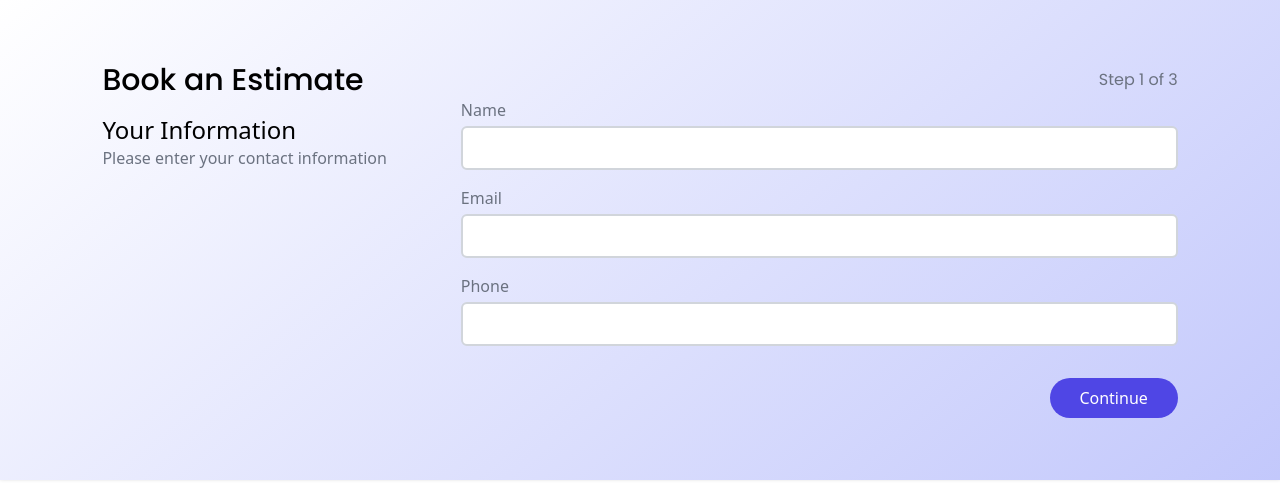
Page 2 › should render step 2 of 3
Step 1. Type "John Doe" into the field labelled "Name" → (819, 148), box [461, 126, 1178, 170]
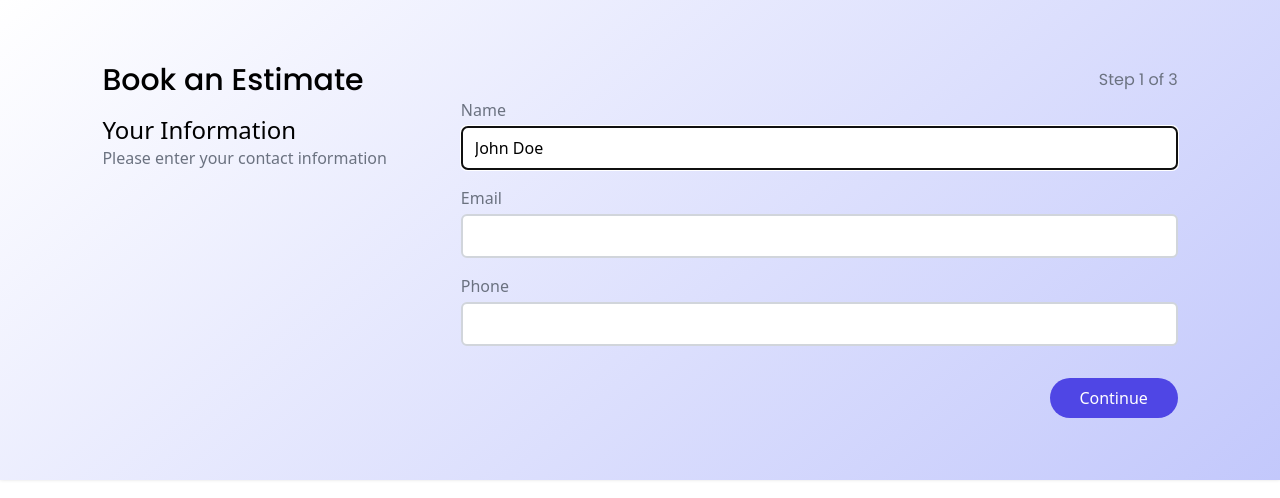
Step 2. Type "johndoe123@example.com" into the field labelled "Email" → (819, 236), box [461, 214, 1178, 258]
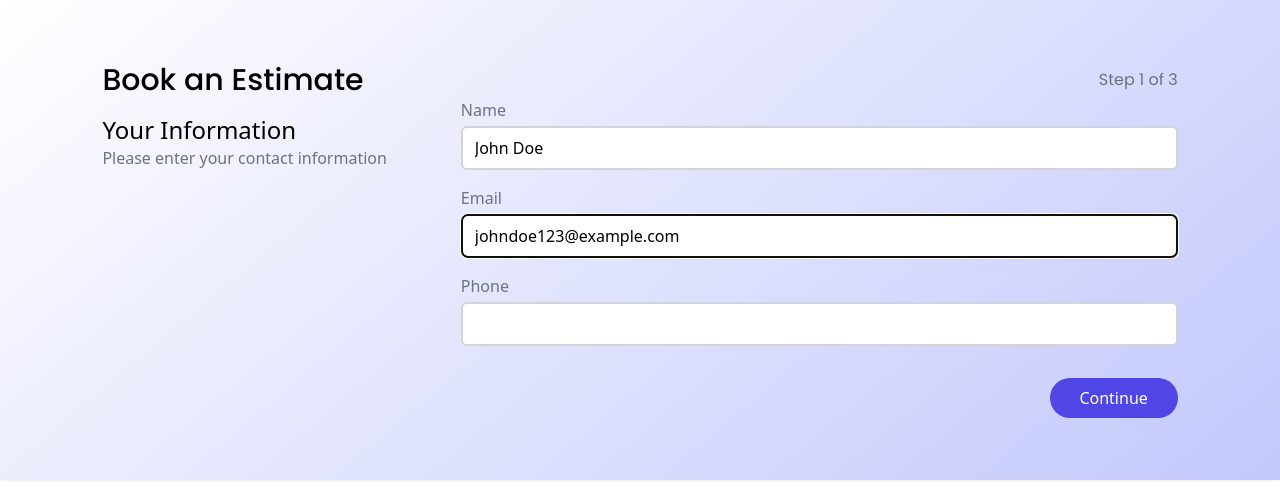
Step 3. Type "1234567890" into the field labelled "Phone" → (819, 324), box [461, 302, 1178, 346]
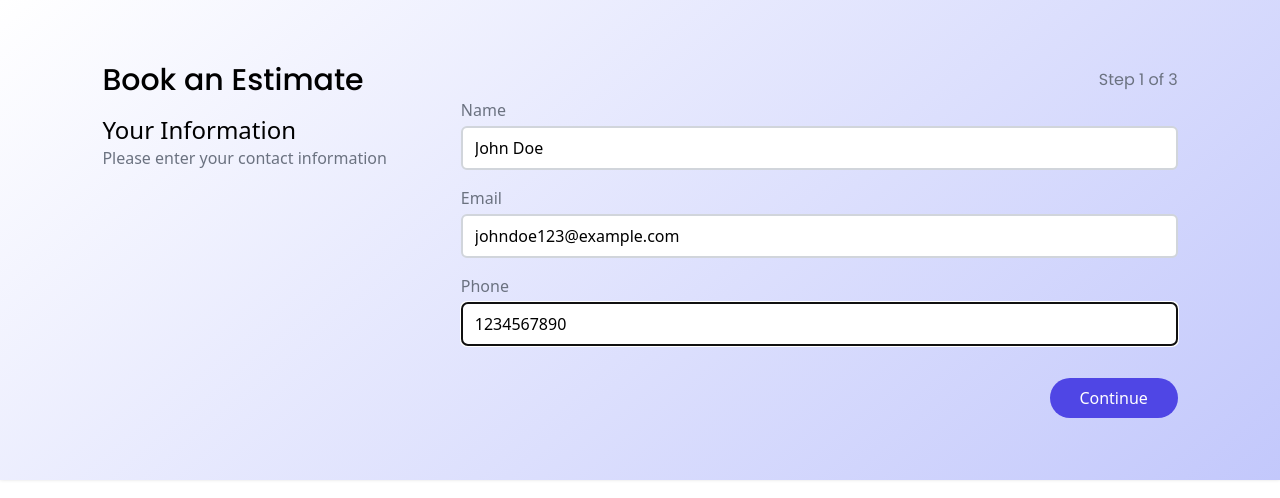
Step 4. Click the button "Continue" → (1114, 398), box [1050, 378, 1178, 418]
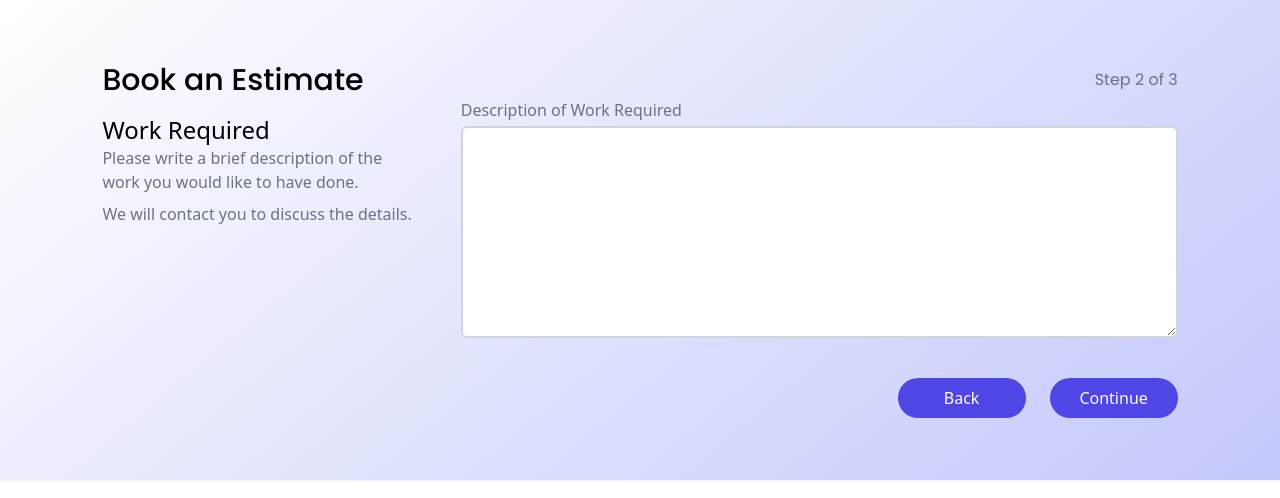
Check: the text "Step 2 of 3" is shown, box [1095, 68, 1178, 92]
